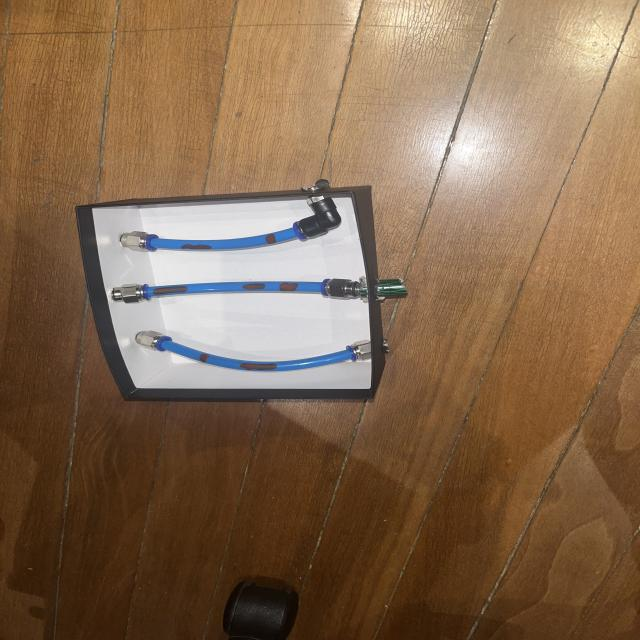hose_damage: (238, 362, 278, 372), (151, 286, 189, 295), (179, 244, 213, 250), (279, 282, 298, 292), (242, 284, 266, 290), (197, 352, 210, 363), (264, 234, 277, 244)
